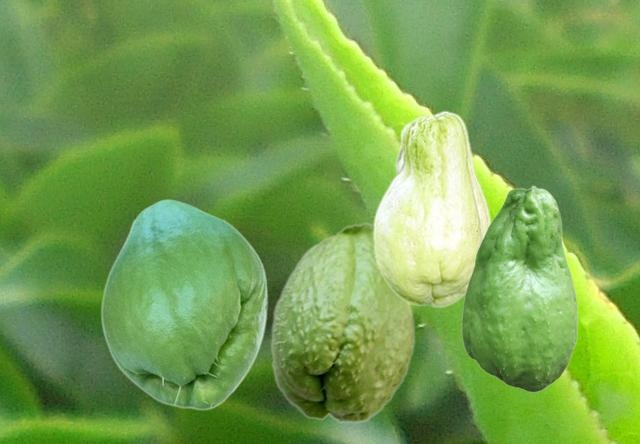sayote: (100, 199, 267, 410), (270, 221, 415, 423), (461, 185, 577, 391), (372, 110, 490, 307)
